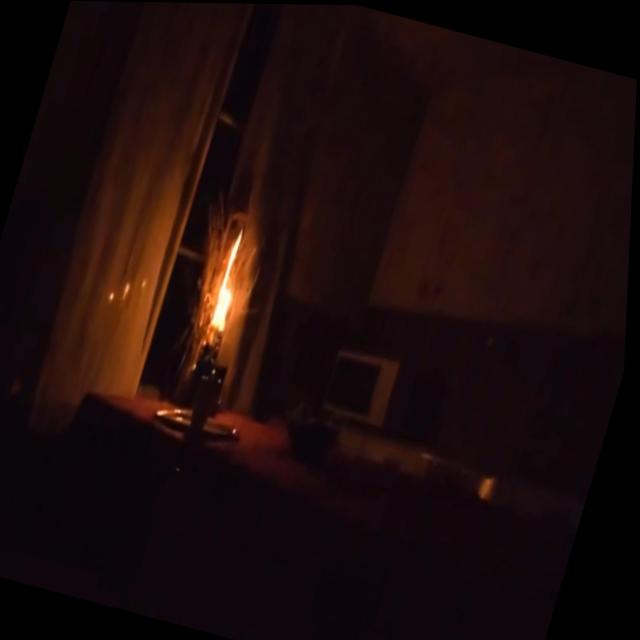fire: (200, 213, 265, 339)
